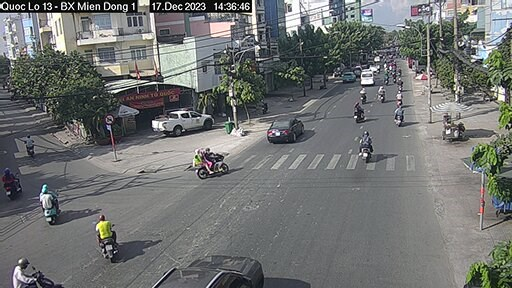car: (168, 246, 268, 286), (152, 112, 213, 137), (269, 115, 300, 142), (358, 70, 376, 89), (340, 68, 355, 82)
motorbike: (97, 216, 121, 258), (194, 146, 227, 176), (35, 187, 61, 220), (356, 136, 376, 162), (351, 98, 369, 126), (393, 102, 403, 126)
